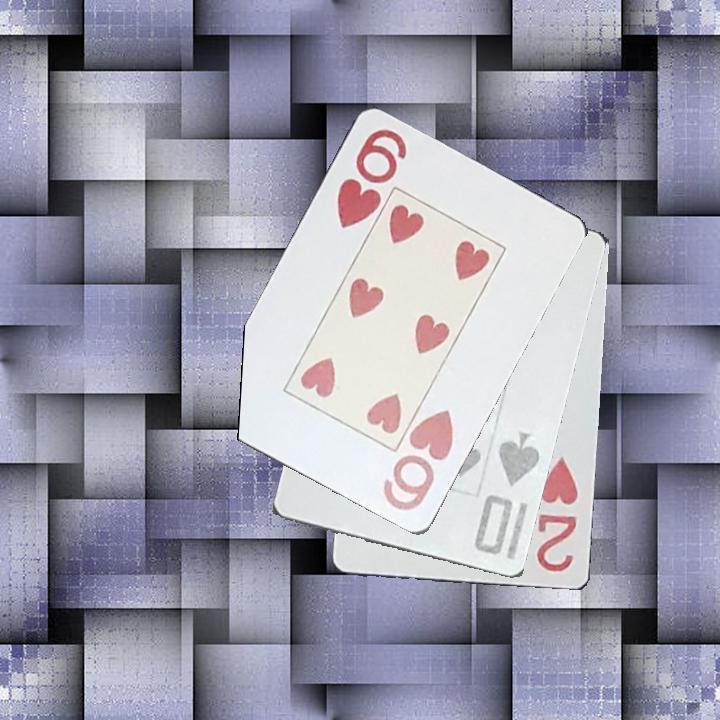2h: (534, 453, 582, 576)
6h: (379, 406, 457, 515), (333, 125, 411, 232)
Ts: (471, 429, 544, 559)
